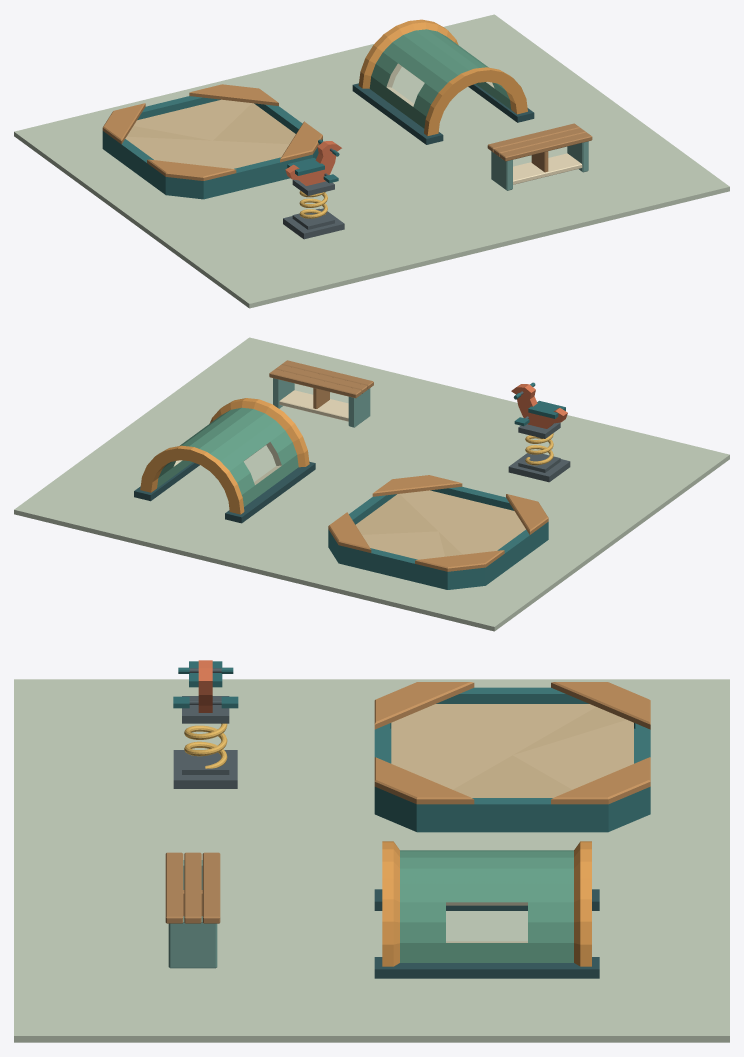
3 views of the same model, one above another, from view 1: azimuth 30°, elevation 25°; view 2: azimuth 150°, elevation 25°; view 3: azimuth 270°, elevation 25° (orthographic). The views are drawn at different scales.
Visible parts, largest first — view 1: SCENE_ONLY__LowActivityAreaBase, whole_open_crawl_tunnel__ContinuousWindowedArchShell, whole_corner_seat_sandpit__Complete_ClosedSandLayer, whole_corner_seat_sandpit__One_ContinuousClosedBottomPit, whole_observation_bench__entryway-storage-bench-01, whole_open_crawl_tunnel__LeftGroundRunner, whole_corner_seat_sandpit__SW_BroadCornerSeat, whole_corner_seat_sandpit__NE_BroadCornerSeat, whole_spring_rider__Rider_OriginalAbstractBirdProfile, whole_corner_seat_sandpit__NW_BroadCornerSeat, whole_corner_seat_sandpit__SE_BroadCornerSeat, whole_spring_rider__Base_BroadGroundedPlinth (+2 smaller); view 2: SCENE_ONLY__LowActivityAreaBase, whole_open_crawl_tunnel__ContinuousWindowedArchShell, whole_corner_seat_sandpit__Complete_ClosedSandLayer, whole_corner_seat_sandpit__One_ContinuousClosedBottomPit, whole_observation_bench__entryway-storage-bench-01, whole_open_crawl_tunnel__LeftGroundRunner, whole_corner_seat_sandpit__NW_BroadCornerSeat, whole_corner_seat_sandpit__SE_BroadCornerSeat, whole_spring_rider__Rider_OriginalAbstractBirdProfile, whole_corner_seat_sandpit__SW_BroadCornerSeat, whole_corner_seat_sandpit__NE_BroadCornerSeat, whole_spring_rider__Base_BroadGroundedPlinth (+2 smaller); view 3: SCENE_ONLY__LowActivityAreaBase, whole_open_crawl_tunnel__ContinuousWindowedArchShell, whole_corner_seat_sandpit__Complete_ClosedSandLayer, whole_corner_seat_sandpit__One_ContinuousClosedBottomPit, whole_observation_bench__entryway-storage-bench-01, whole_open_crawl_tunnel__RightGroundRunner, whole_corner_seat_sandpit__SE_BroadCornerSeat, whole_corner_seat_sandpit__NE_BroadCornerSeat, whole_corner_seat_sandpit__SW_BroadCornerSeat, whole_corner_seat_sandpit__NW_BroadCornerSeat, whole_spring_rider__Base_BroadGroundedPlinth, whole_spring_rider__Spring_ContinuousThreeTurnHelix (+4 smaller).
Boxes of the visible parts, x1,y1,x2,y2 form: SCENE_ONLY__LowActivityAreaBase: (14, 14, 729, 308); whole_open_crawl_tunnel__ContinuousWindowedArchShell: (358, 19, 527, 136); whole_corner_seat_sandpit__Complete_ClosedSandLayer: (125, 99, 295, 168); whole_corner_seat_sandpit__One_ContinuousClosedBottomPit: (102, 96, 322, 199); whole_observation_bench__entryway-storage-bench-01: (487, 123, 592, 190); whole_open_crawl_tunnel__LeftGroundRunner: (352, 83, 443, 144); whole_corner_seat_sandpit__SW_BroadCornerSeat: (147, 159, 236, 180); whole_corner_seat_sandpit__NE_BroadCornerSeat: (189, 84, 278, 105); whole_spring_rider__Rider_OriginalAbstractBirdProfile: (285, 141, 341, 185); whole_corner_seat_sandpit__NW_BroadCornerSeat: (102, 103, 145, 144); whole_corner_seat_sandpit__SE_BroadCornerSeat: (280, 121, 322, 162); whole_spring_rider__Base_BroadGroundedPlinth: (283, 208, 344, 239); SCENE_ONLY__LowActivityAreaBase: (14, 337, 729, 631); whole_open_crawl_tunnel__ContinuousWindowedArchShell: (140, 398, 309, 514); whole_corner_seat_sandpit__Complete_ClosedSandLayer: (356, 490, 525, 559); whole_corner_seat_sandpit__One_ContinuousClosedBottomPit: (328, 486, 548, 589); whole_observation_bench__entryway-storage-bench-01: (269, 360, 373, 427); whole_open_crawl_tunnel__LeftGroundRunner: (225, 461, 315, 523); whole_corner_seat_sandpit__NW_BroadCornerSeat: (415, 550, 504, 571); whole_corner_seat_sandpit__SE_BroadCornerSeat: (372, 475, 462, 496); whole_spring_rider__Rider_OriginalAbstractBirdProfile: (511, 384, 567, 428); whole_corner_seat_sandpit__SW_BroadCornerSeat: (506, 494, 548, 534); whole_corner_seat_sandpit__NE_BroadCornerSeat: (328, 512, 371, 552); whole_spring_rider__Base_BroadGroundedPlinth: (508, 453, 570, 482); SCENE_ONLY__LowActivityAreaBase: (14, 679, 729, 1042); whole_open_crawl_tunnel__ContinuousWindowedArchShell: (382, 841, 591, 966); whole_corner_seat_sandpit__Complete_ClosedSandLayer: (391, 704, 633, 797); whole_corner_seat_sandpit__One_ContinuousClosedBottomPit: (374, 687, 650, 832); whole_observation_bench__entryway-storage-bench-01: (165, 852, 220, 968); whole_open_crawl_tunnel__RightGroundRunner: (374, 957, 599, 978); whole_corner_seat_sandpit__SE_BroadCornerSeat: (374, 757, 474, 804); whole_corner_seat_sandpit__NE_BroadCornerSeat: (551, 757, 650, 804); whole_corner_seat_sandpit__SW_BroadCornerSeat: (374, 682, 474, 729); whole_corner_seat_sandpit__NW_BroadCornerSeat: (551, 682, 650, 729); whole_spring_rider__Base_BroadGroundedPlinth: (173, 750, 237, 788); whole_spring_rider__Spring_ContinuousThreeTurnHelix: (184, 723, 227, 768).
Bounding box in the file's own units: 6.6 × 1.12 × 5.6.
